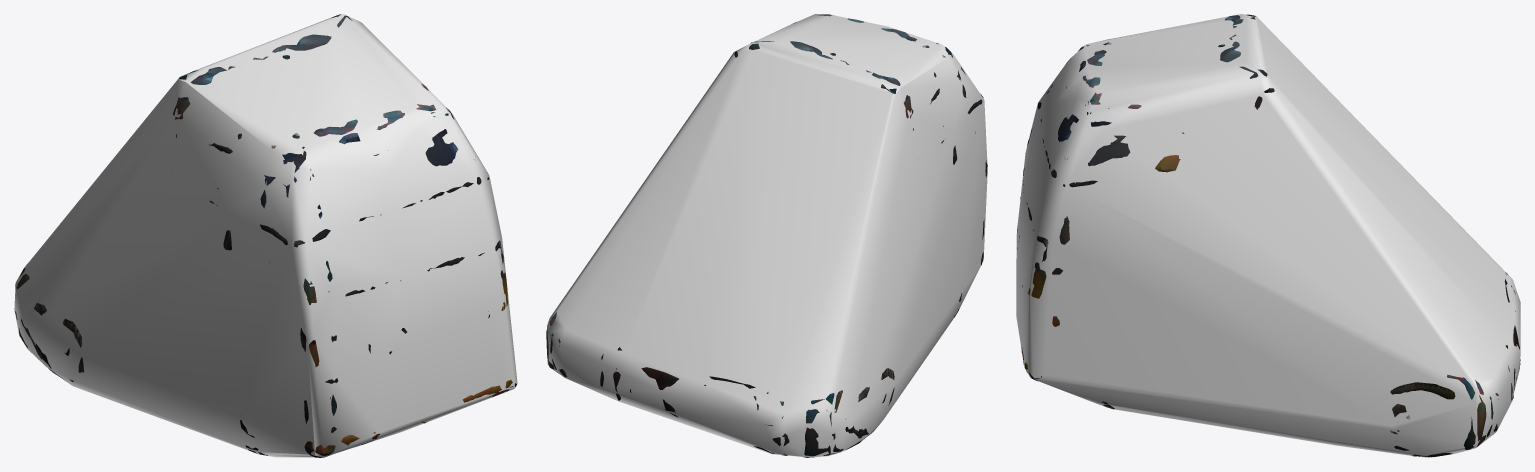
File: improved-prepared.glb
3 views of the same model, side by side, from view 1: azimuth 30°, elevation 25°; view 2: azimuth 150°, elevation 25°; view 3: azimuth 270°, elevation 25° (orthographic). The views are drawn at different scales.
Parts seen in each view (by area): view 1: COL_Hull, geometry_0_LOD0; view 2: COL_Hull, geometry_0_LOD0; view 3: COL_Hull, geometry_0_LOD0.
Part boxes in pixels (x1,y1,x2,y2): COL_Hull: [14, 14, 517, 457]; geometry_0_LOD0: [14, 14, 516, 457]; COL_Hull: [547, 14, 987, 457]; geometry_0_LOD0: [546, 14, 987, 457]; COL_Hull: [1016, 14, 1520, 457]; geometry_0_LOD0: [1017, 14, 1520, 456].
Size of what is drawn, in the model's own units: 0.7594 by 0.7703 by 1.
1 material, 1 textured.
